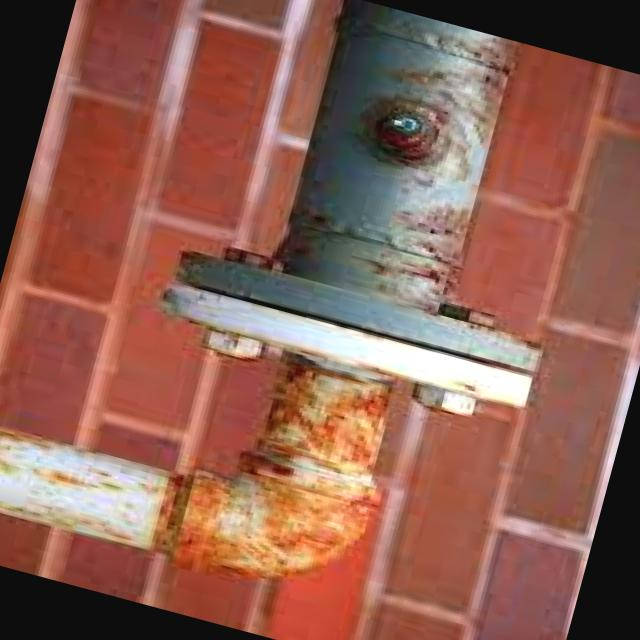gas: (285, 0, 516, 312), (163, 253, 540, 407)
